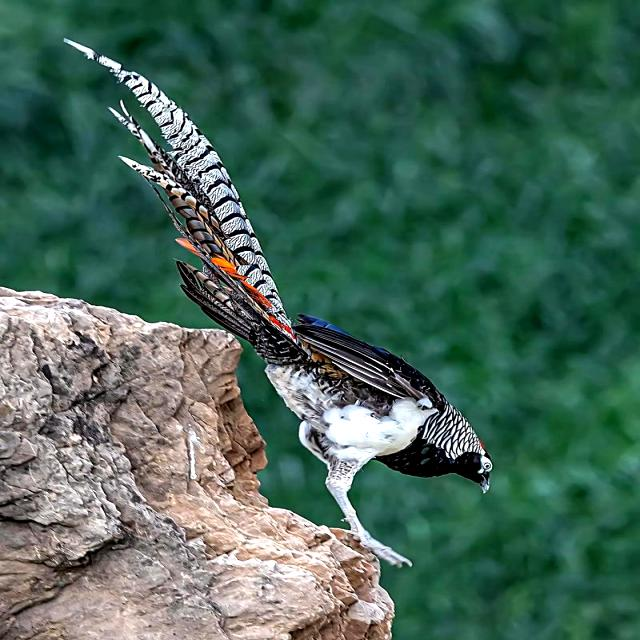Chrysolophus amherstiae: (76, 45, 294, 339), (245, 254, 254, 263)
